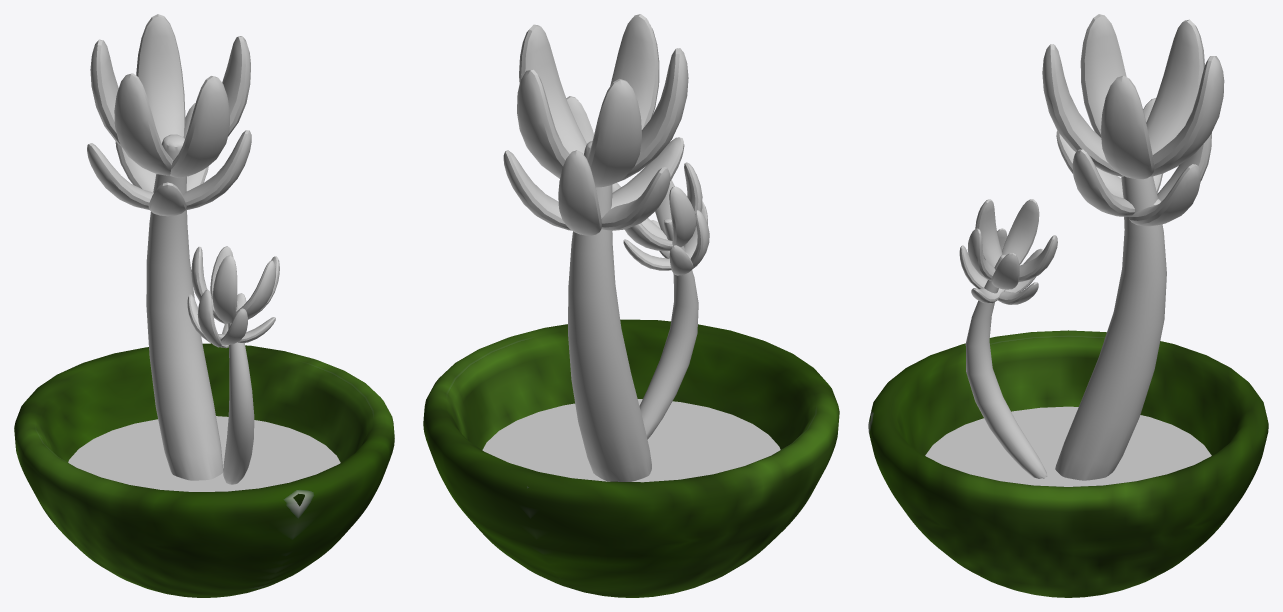
File: Plant.fbx
3 views of the same model, side by side, from view 1: azimuth 30°, elevation 25°; view 2: azimuth 150°, elevation 25°; view 3: azimuth 270°, elevation 25° (orthographic). The views are drawn at different scales.
Visible parts, largest first — view 1: Plant2; view 2: Plant2; view 3: Plant2.
Part boxes in pixels (x1,y1,x2,y2): Plant2: [14, 14, 394, 597]; Plant2: [423, 14, 839, 597]; Plant2: [868, 14, 1268, 597].
Size of the model in its own units: 40.6 by 59.9 by 40.6.
